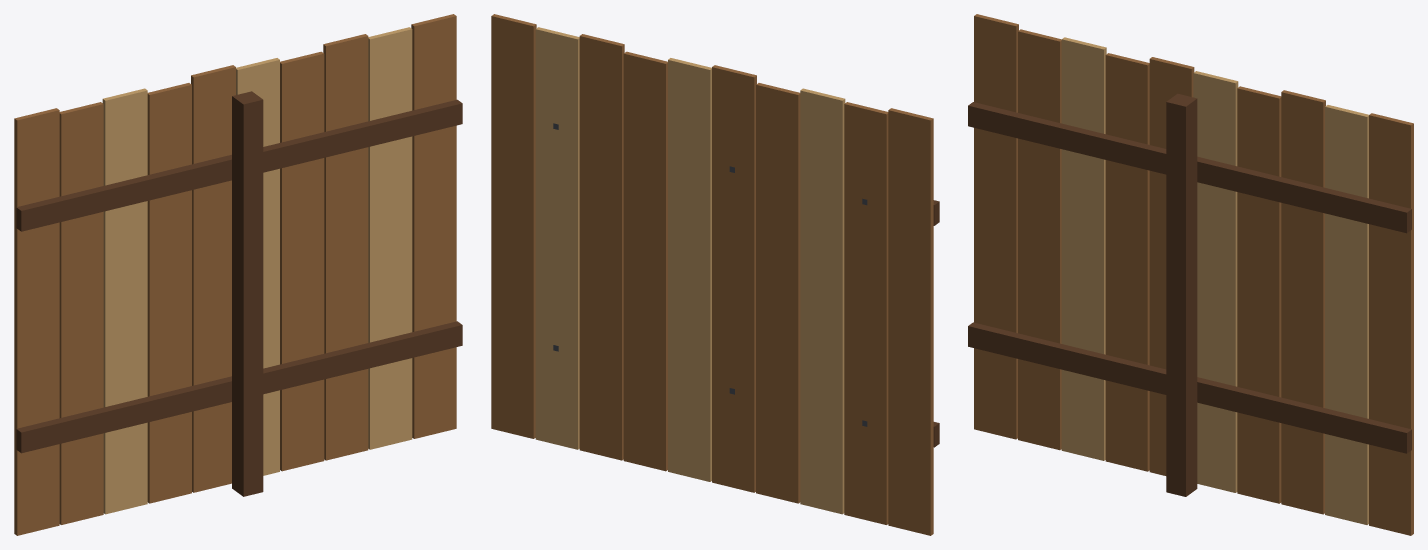
The model's file is fence_wood.glb.
3 views of the same model, side by side, from view 1: azimuth 30°, elevation 25°; view 2: azimuth 150°, elevation 25°; view 3: azimuth 330°, elevation 25° (orthographic).
Parts seen in each view (by area): view 1: fence_wood__mesh; view 2: fence_wood__mesh; view 3: fence_wood__mesh.
Part boxes in pixels (<box>): fence_wood__mesh: <box>14,14,462,535</box>; fence_wood__mesh: <box>491,14,939,535</box>; fence_wood__mesh: <box>968,14,1413,535</box>.
Bounding box in the file's own units: 2 × 1.8 × 0.1575.
1 material, 1 textured.
